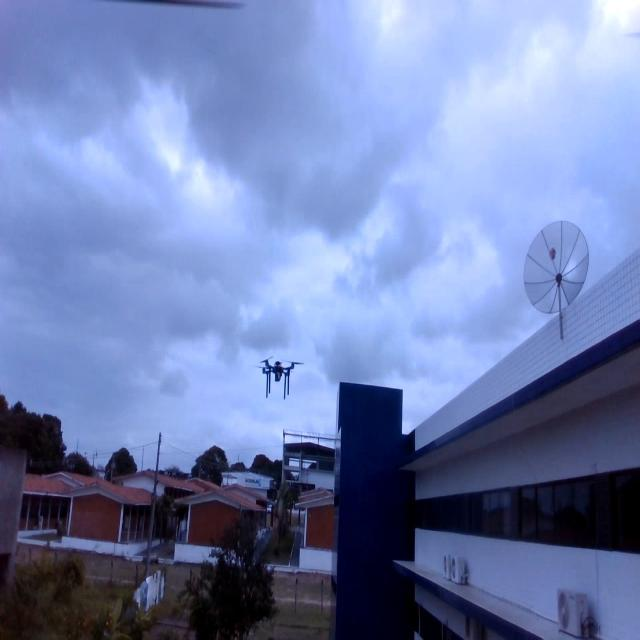-uav-: (252, 347, 309, 406)
